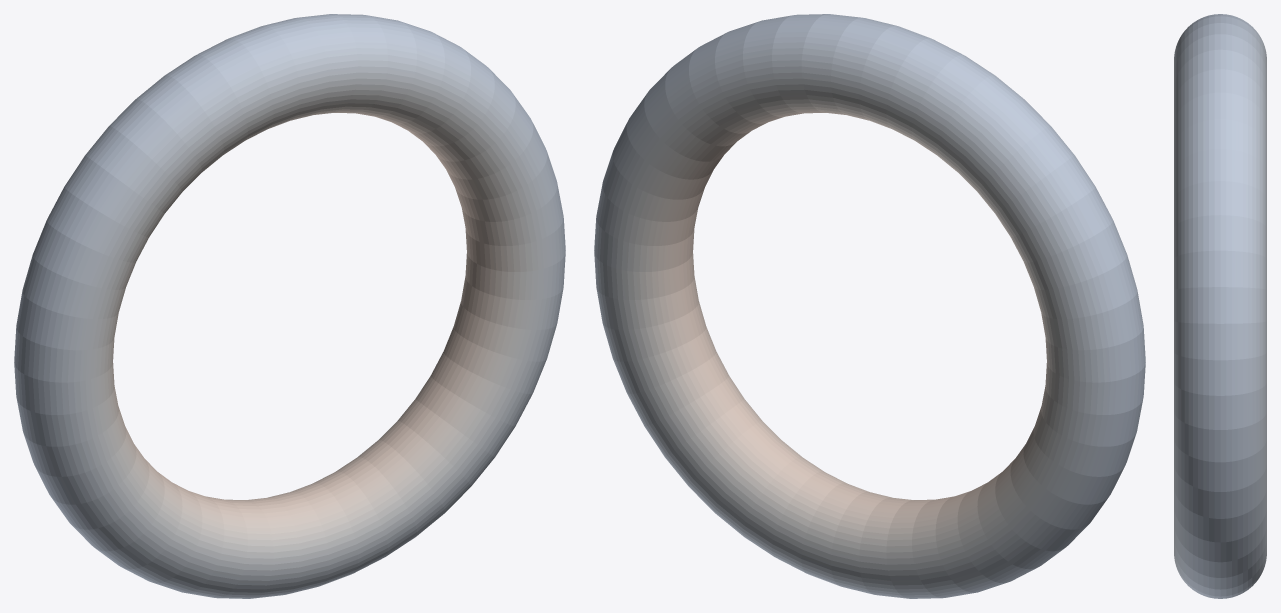
3 views of the same model, side by side, from view 1: azimuth 30°, elevation 25°; view 2: azimuth 150°, elevation 25°; view 3: azimuth 270°, elevation 25° (orthographic). The views are drawn at different scales.
Parts seen in each view (by area): view 1: world; view 2: world; view 3: world.
Boxes of the visible parts, box(x1,y1,x2,y2) form: world: box(14, 14, 565, 598); world: box(594, 14, 1145, 598); world: box(1174, 14, 1266, 598).
Size of the model in its own units: 29.33 by 29.28 by 4.66.
